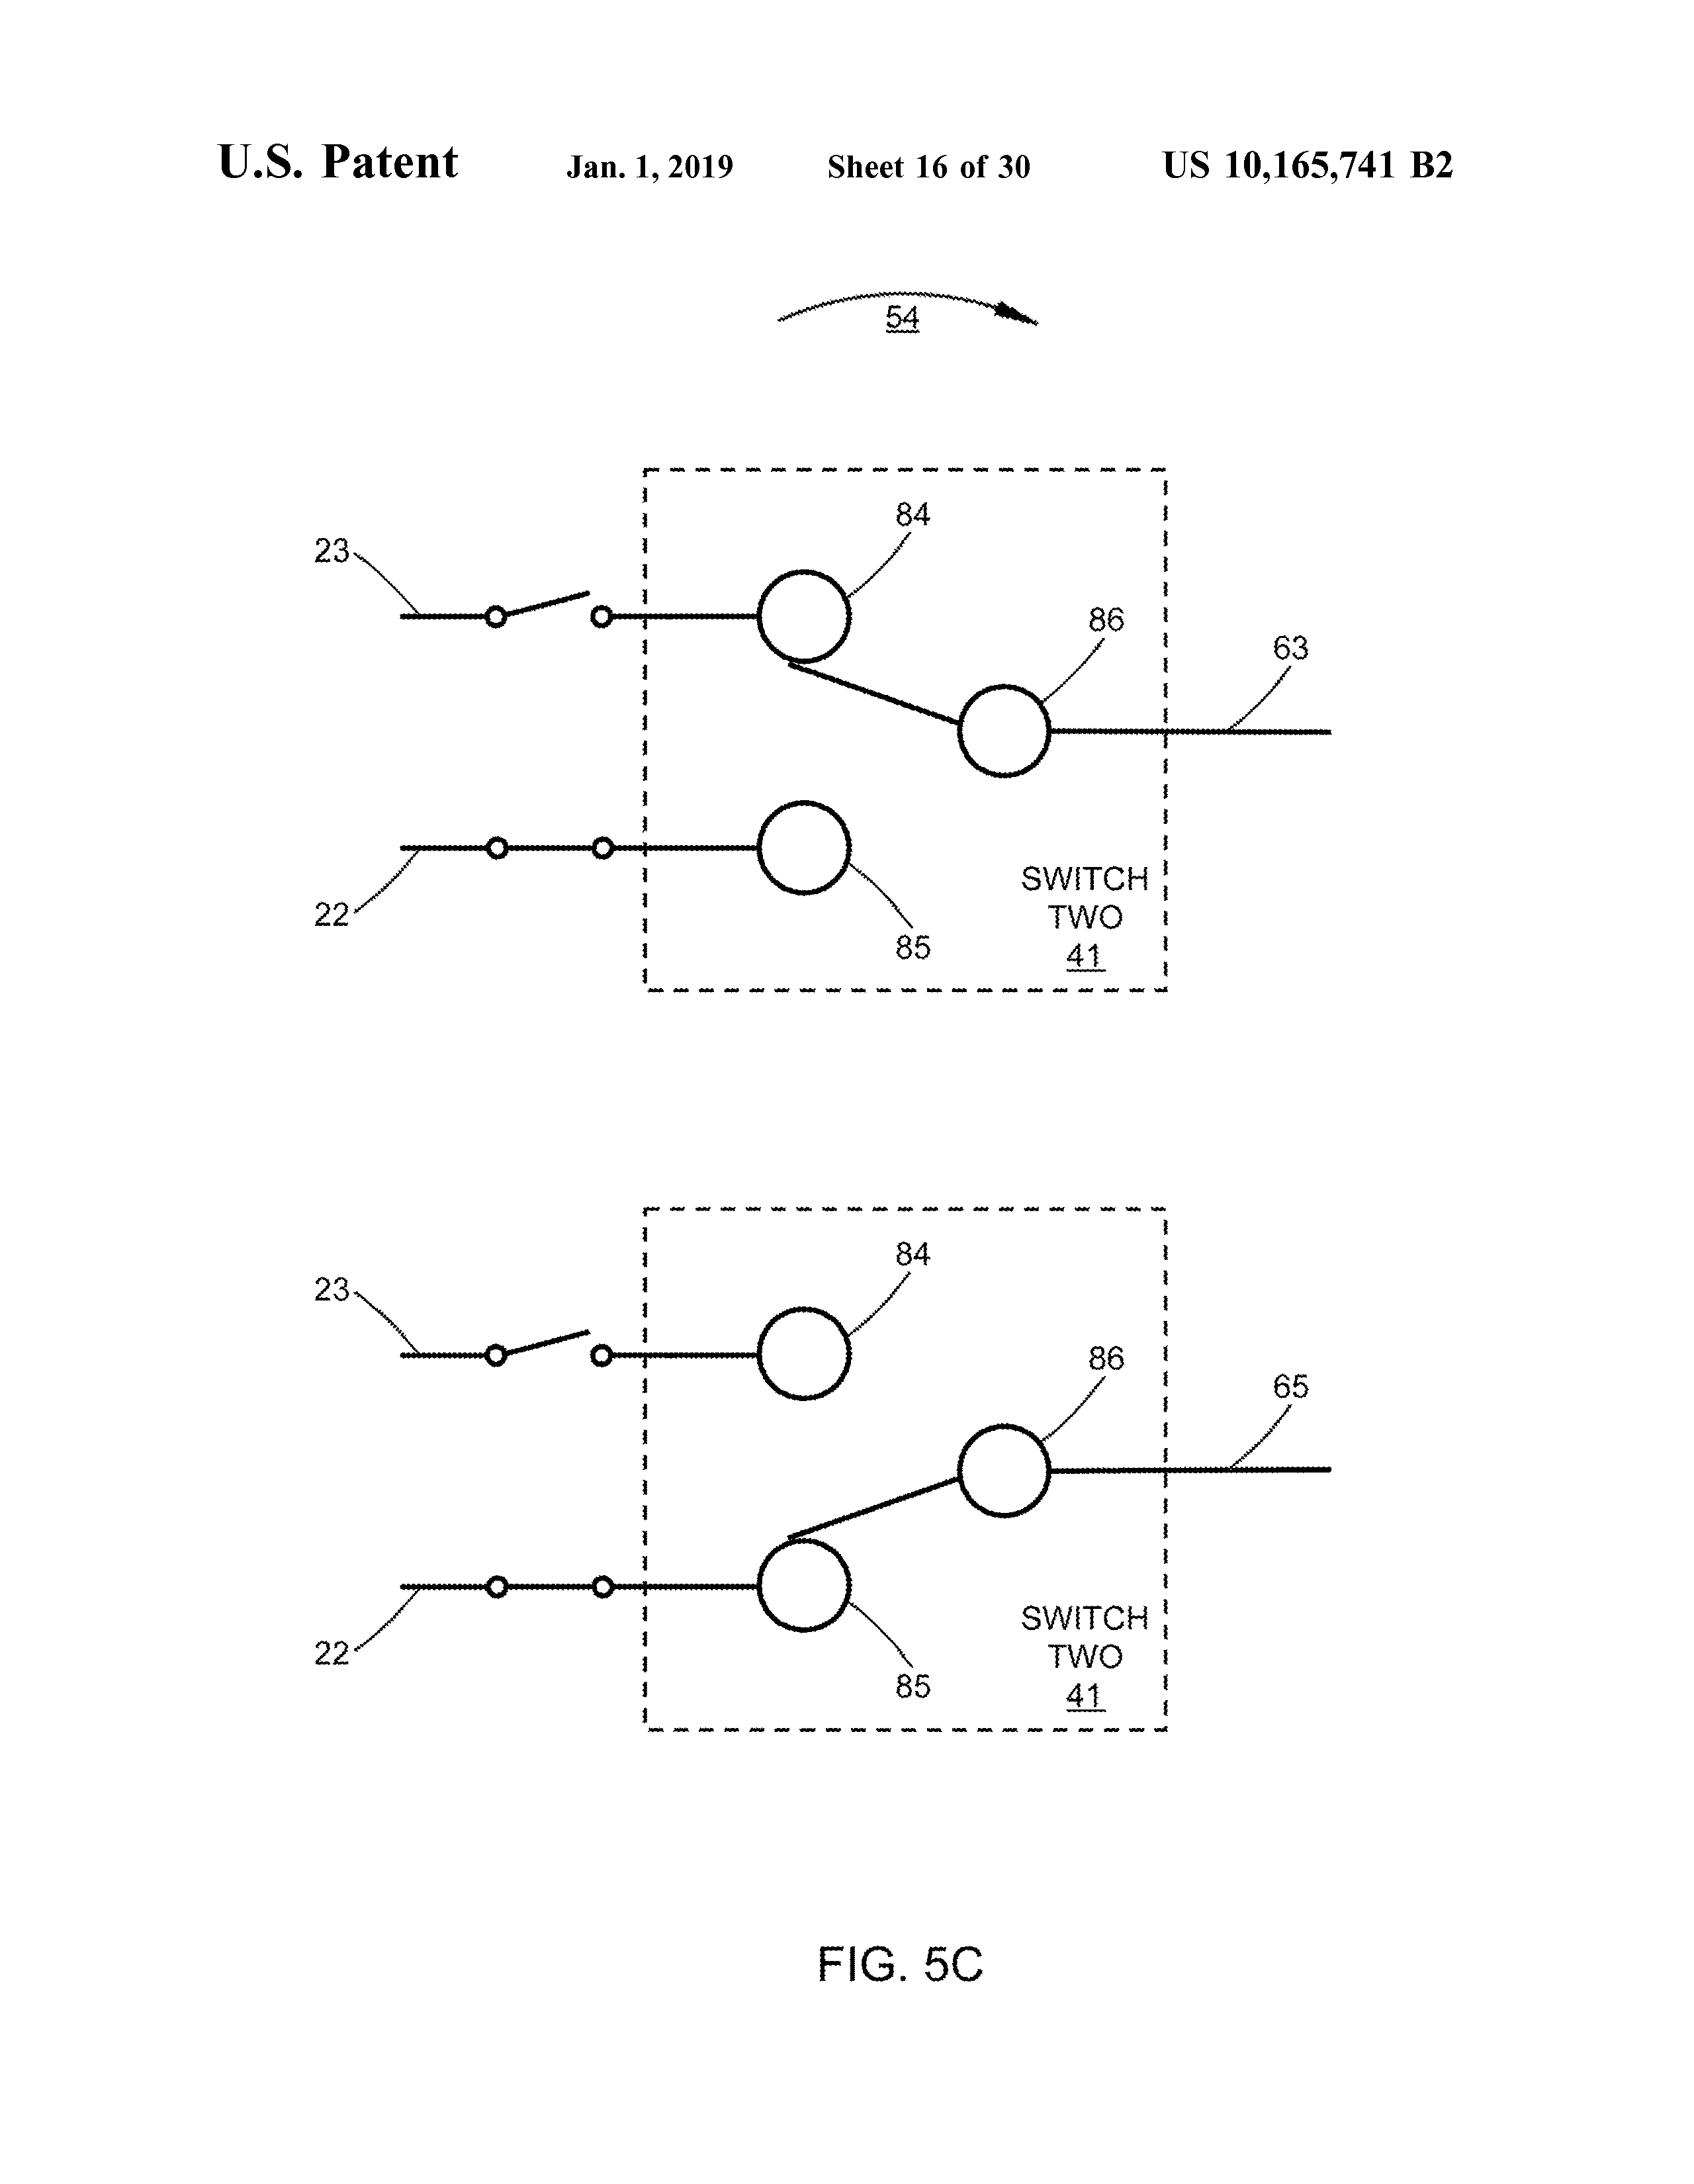patent image: (281, 273, 1353, 2021)
